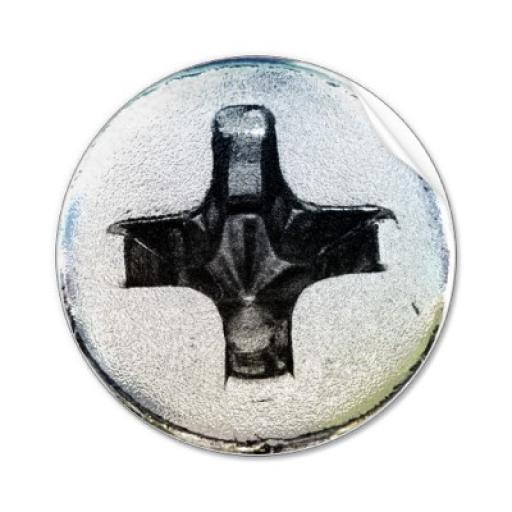Slotted: (56, 56, 464, 454)
